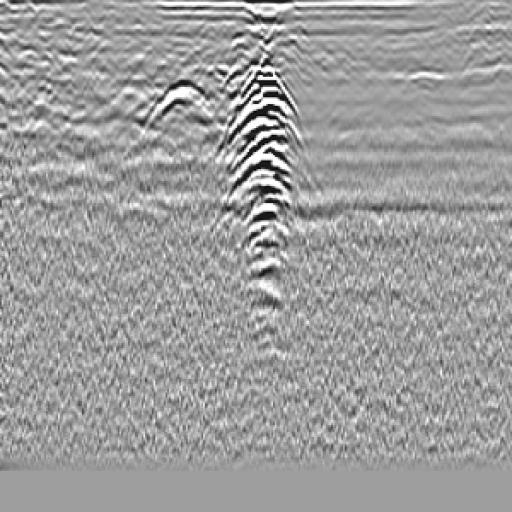metalic: (213, 27, 327, 344)
nonmetalic: (128, 62, 226, 155)
